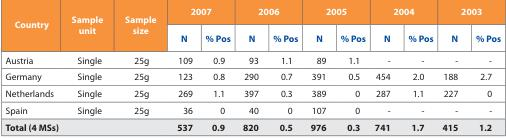table: (4, 4, 500, 132)
table column: (4, 4, 64, 132), (113, 4, 165, 132), (64, 4, 113, 132), (398, 4, 437, 132), (265, 4, 303, 132), (198, 4, 235, 132), (332, 4, 369, 132), (466, 4, 500, 132), (165, 4, 198, 132), (235, 4, 265, 132), (303, 4, 332, 132), (369, 4, 398, 132), (437, 4, 466, 132)
table column header: (4, 4, 500, 48)
table row: (4, 23, 500, 48), (4, 4, 500, 23), (4, 48, 500, 67), (4, 67, 500, 84), (4, 84, 500, 101), (4, 101, 500, 118), (4, 118, 500, 132)
table spanning cell: (4, 4, 64, 48), (113, 4, 165, 48), (64, 4, 113, 48), (165, 4, 235, 23), (235, 4, 303, 23), (369, 4, 437, 23), (303, 4, 369, 23), (437, 4, 500, 23)
